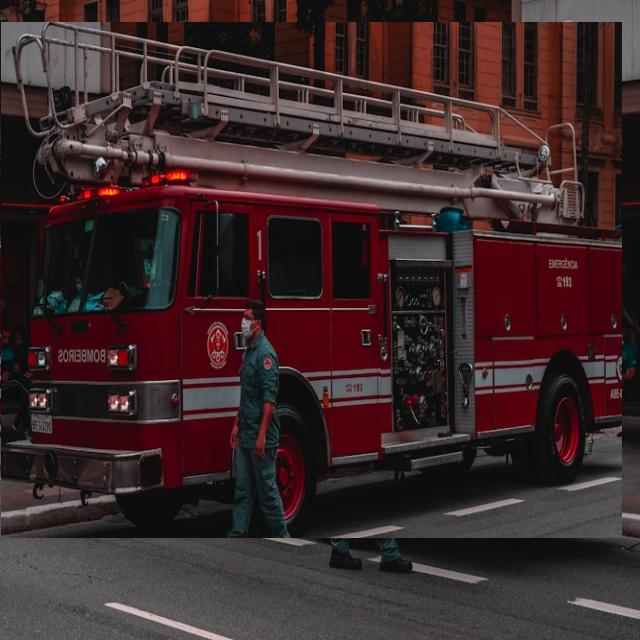emergency: (1, 23, 621, 538)
